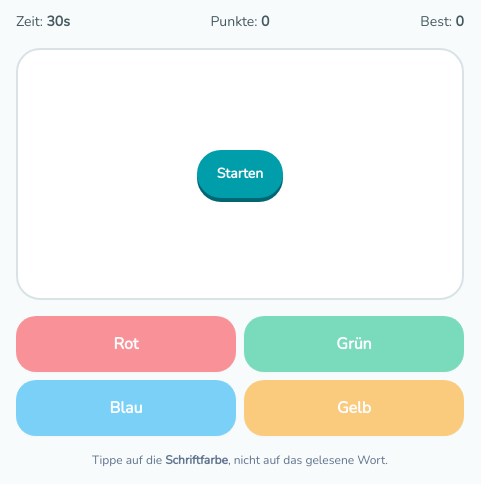
StroopGame › enables the color answers after starting a round
Click the button "Starten" at x=240, y=174, box [197, 150, 283, 198]
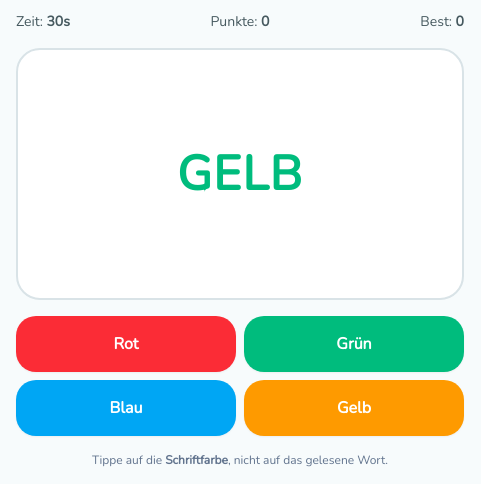
Expected: the button "Rot" is enabled, [16, 316, 236, 372]
